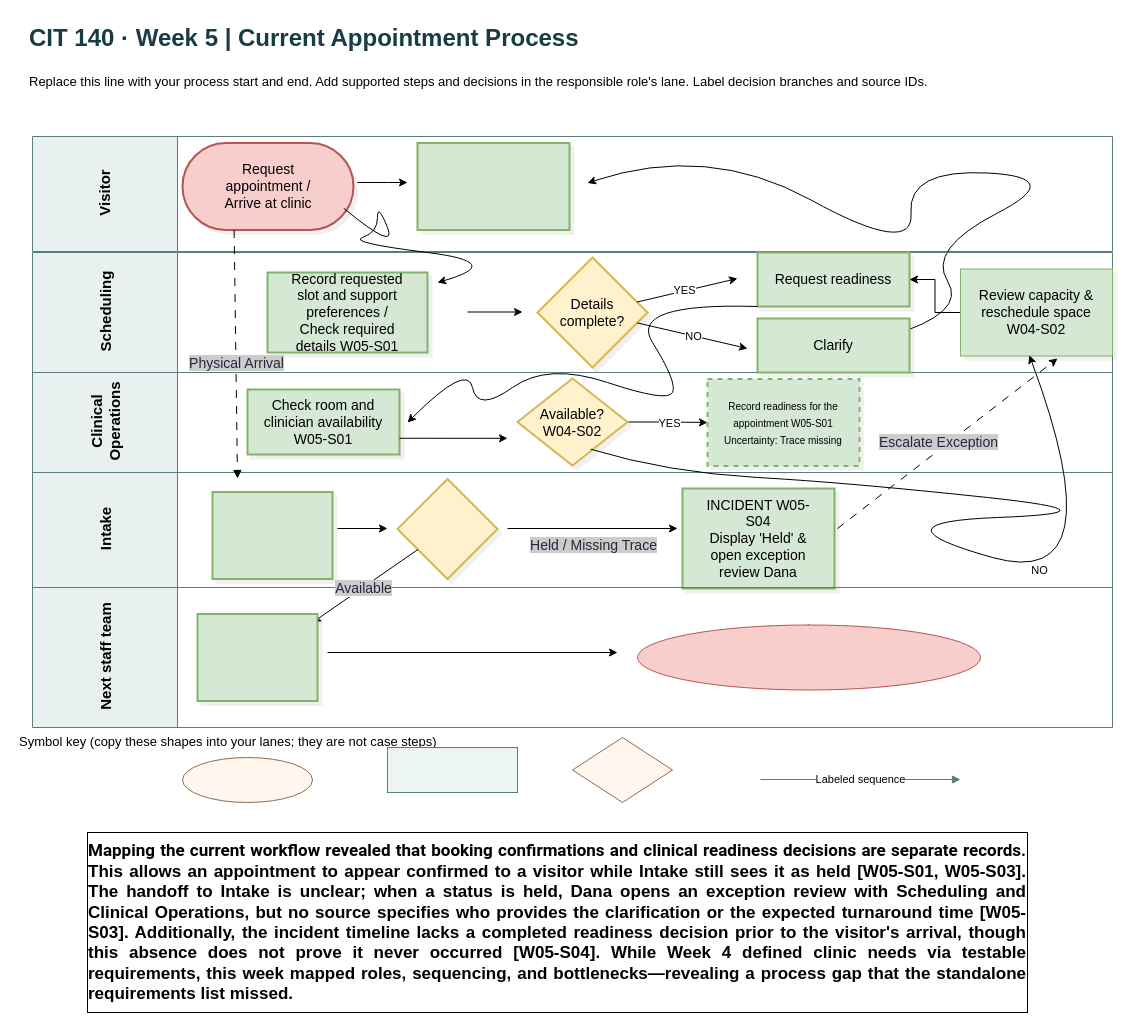
The diagram is 1134 pixels wide and 1035 high, and some of its shapes have lost their labels. The shapes that lost their labels are listed below. From the top down, each one's centre as x and y in pixels, then its label:
At point 495,188: "Provide missing details / If requested".
At point 274,537: "Locate appointment & verify availability status".
At point 449,531: "Status?".
At point 259,659: "Receive visitor after support coordination confirmation W05-S01".
At point 808,657: "End: Visitor received after support coordination".
At point 247,779: "Start / end".
At point 452,769: "Activity".
At point 622,769: "Decision?".
